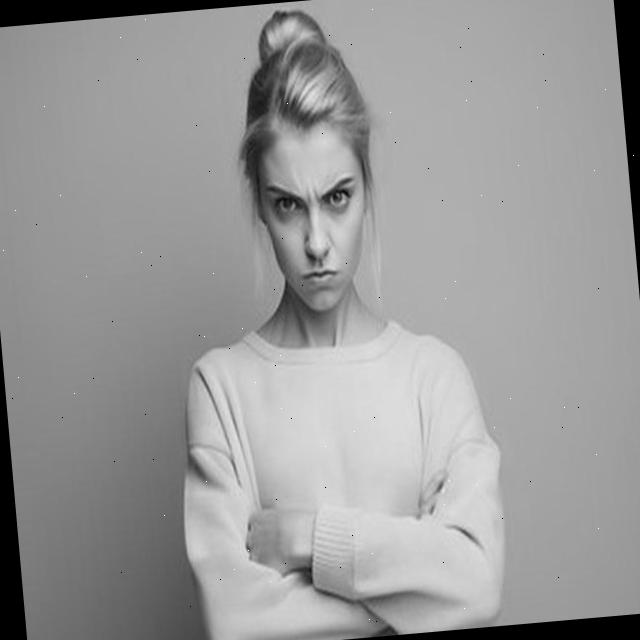Angry: (254, 131, 374, 316)
